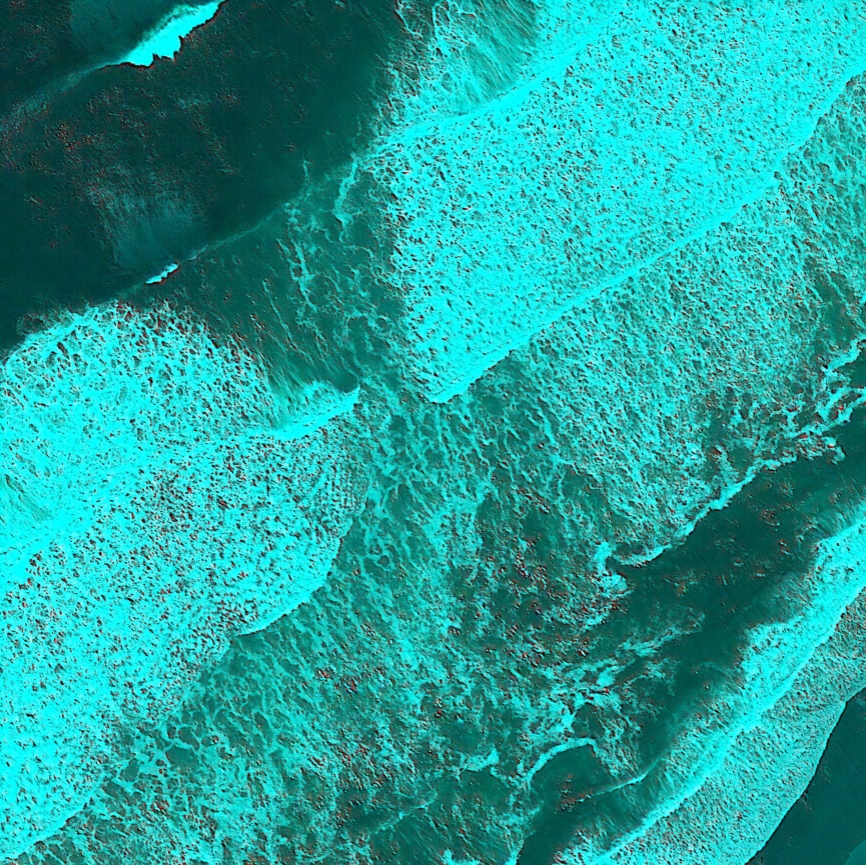rip_current: (132, 150, 498, 496)
